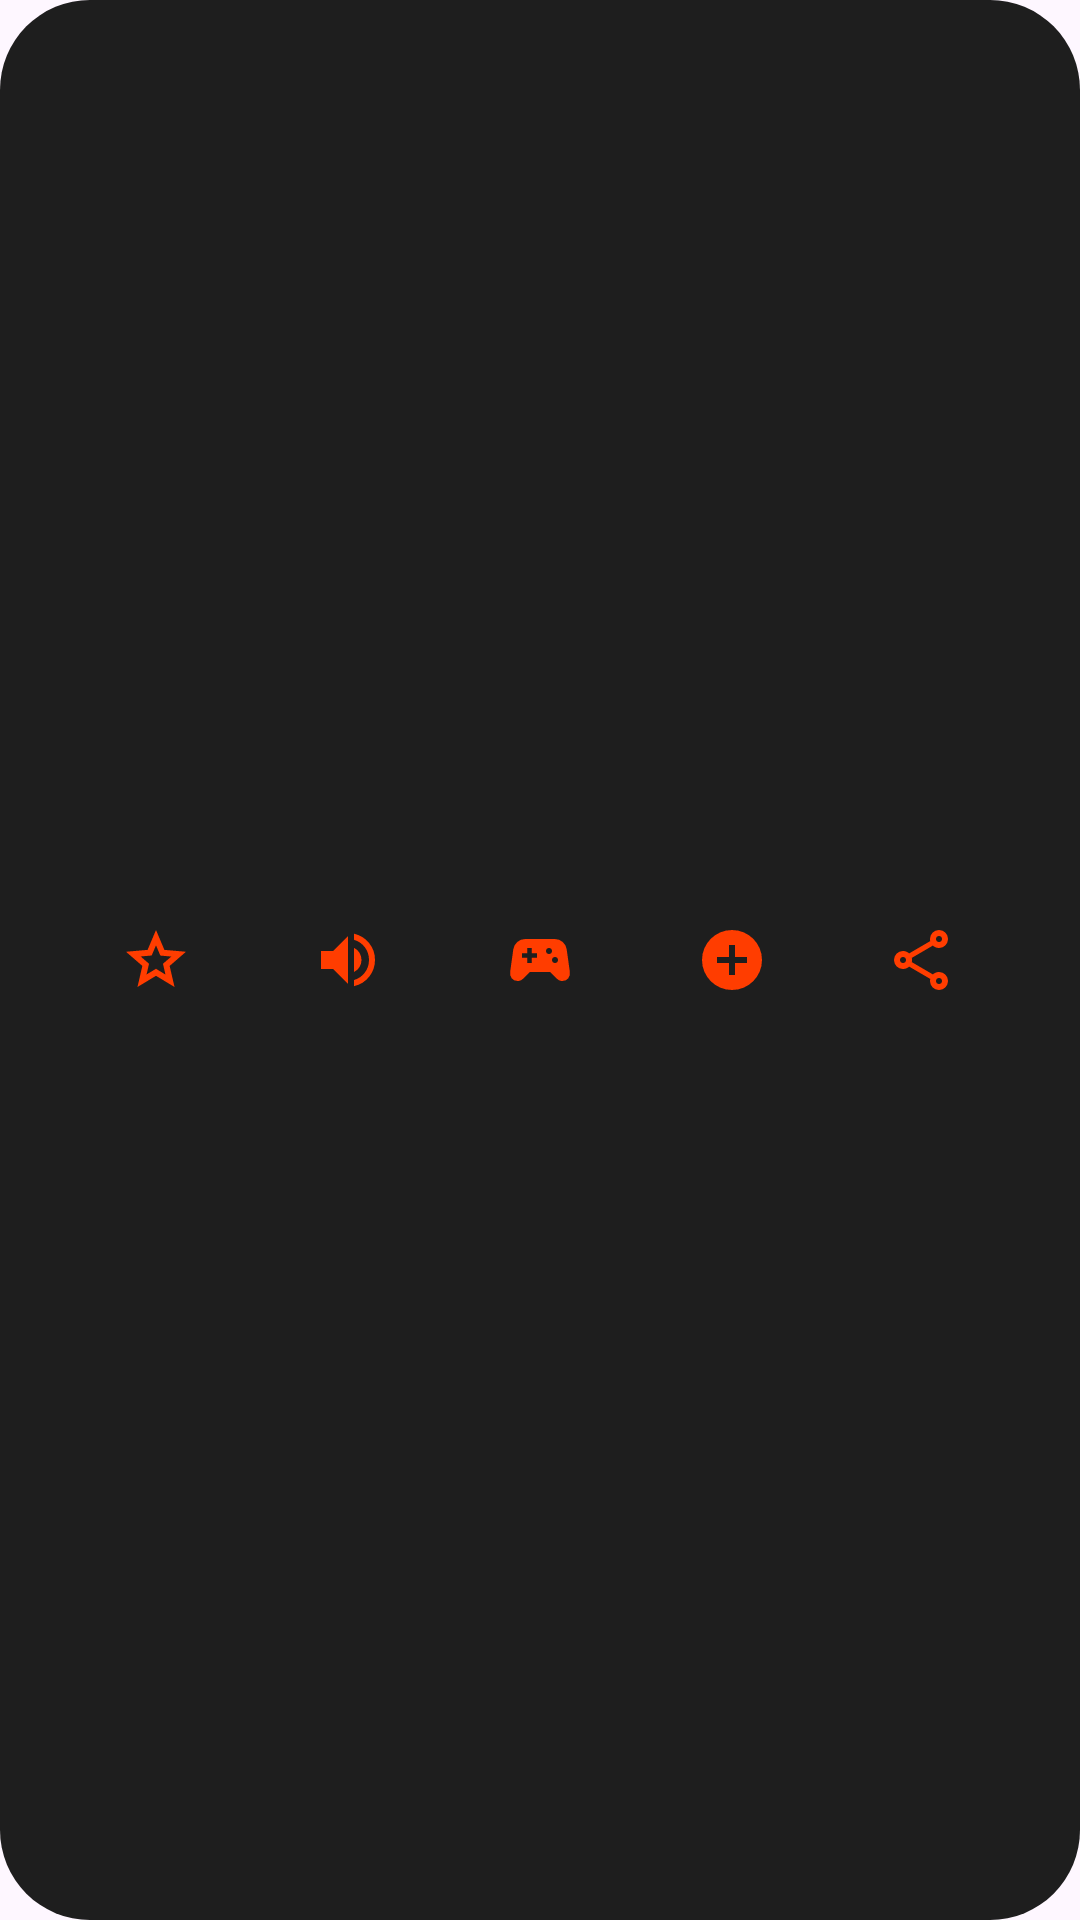

Named icons in this screenshot (1080w x 1920h) and their centers, point (x, y):
add circle: point (732, 960)
share: point (921, 960)
sports esports: point (540, 960)
star: point (156, 958)
volume up: point (348, 959)
